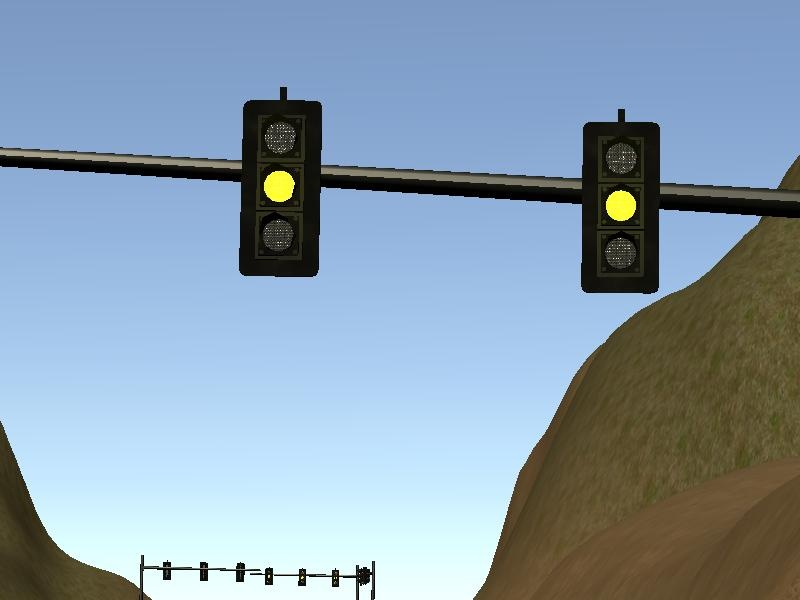yellow: (567, 103, 670, 301), (232, 85, 331, 287)
